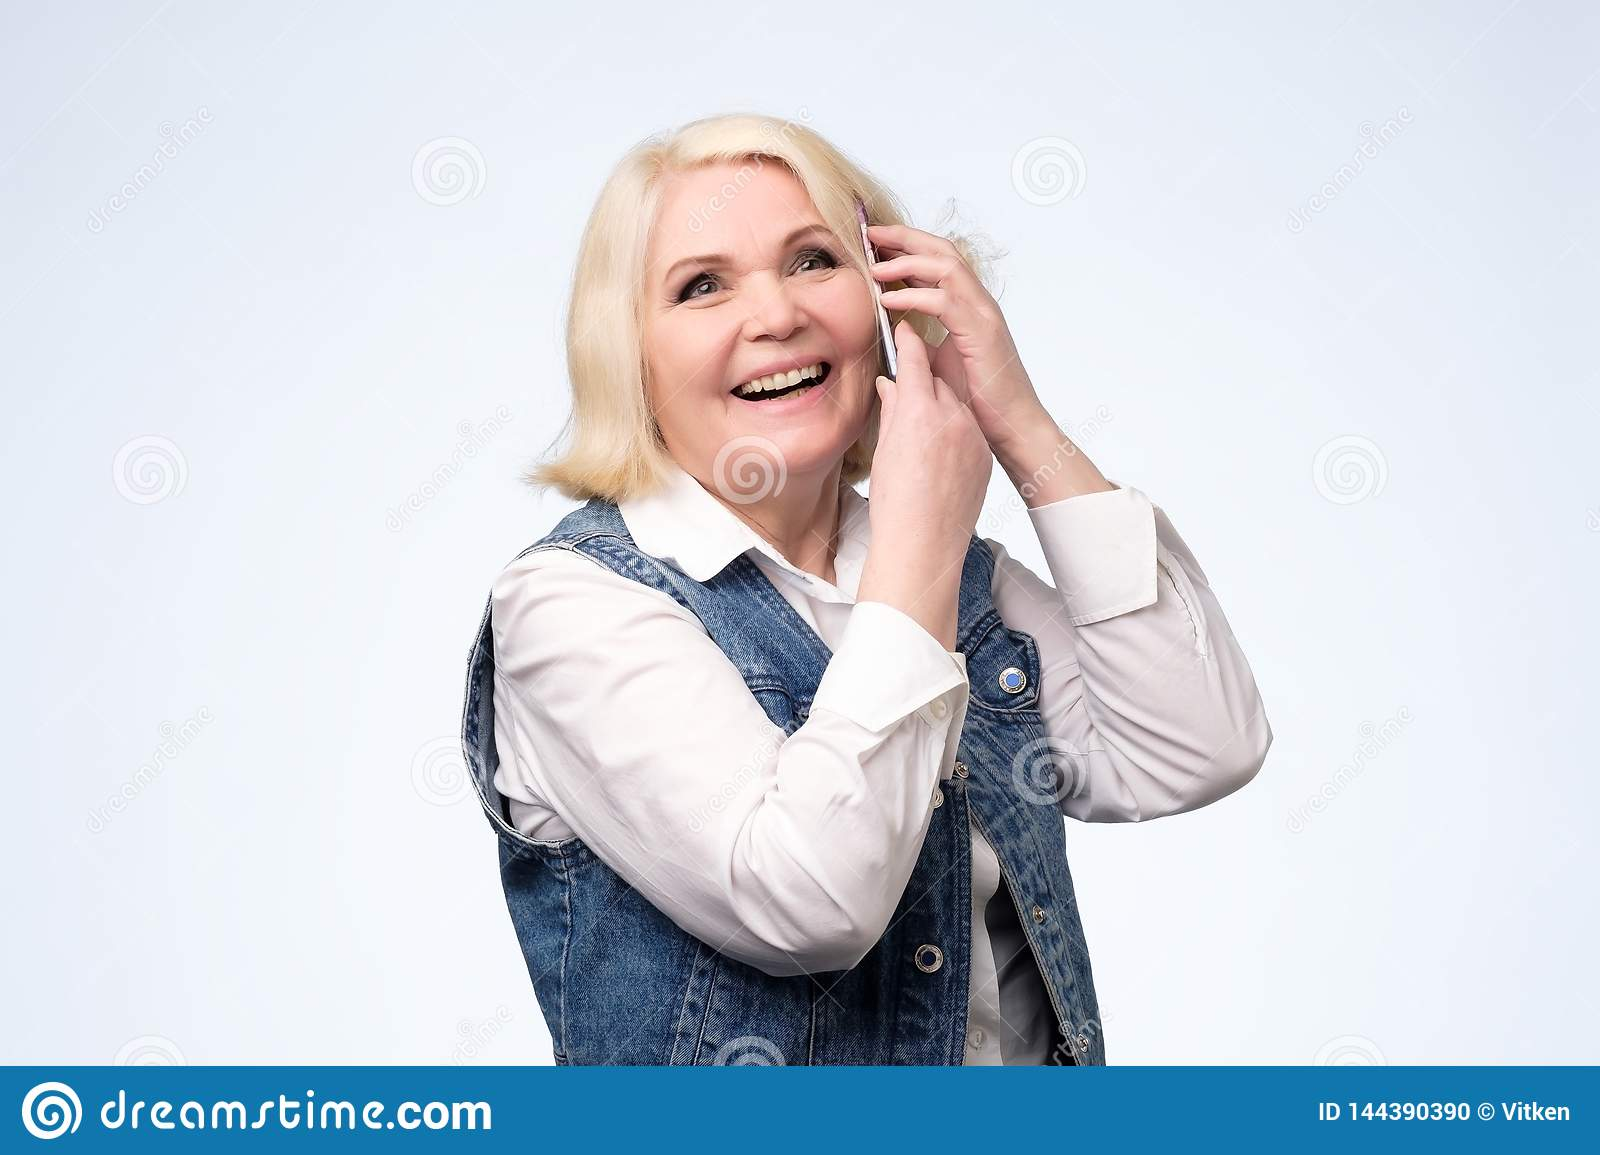phone: (858, 222, 904, 387)
talk: (663, 211, 1046, 468)
